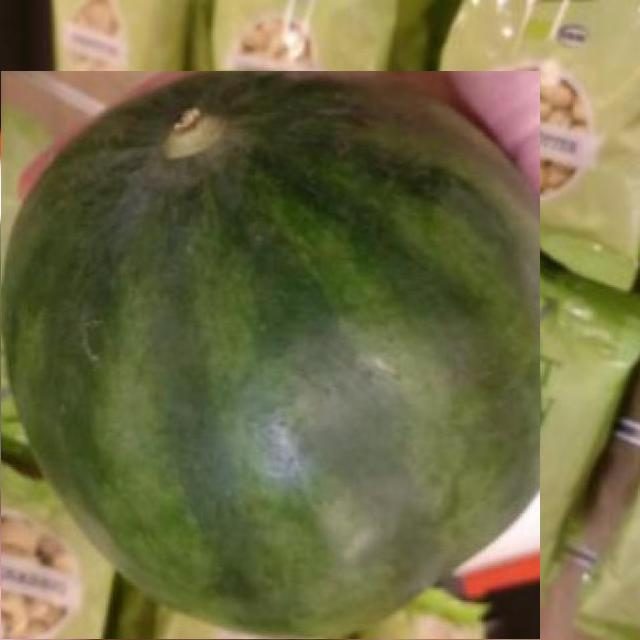Watermelon: (0, 70, 540, 640)
